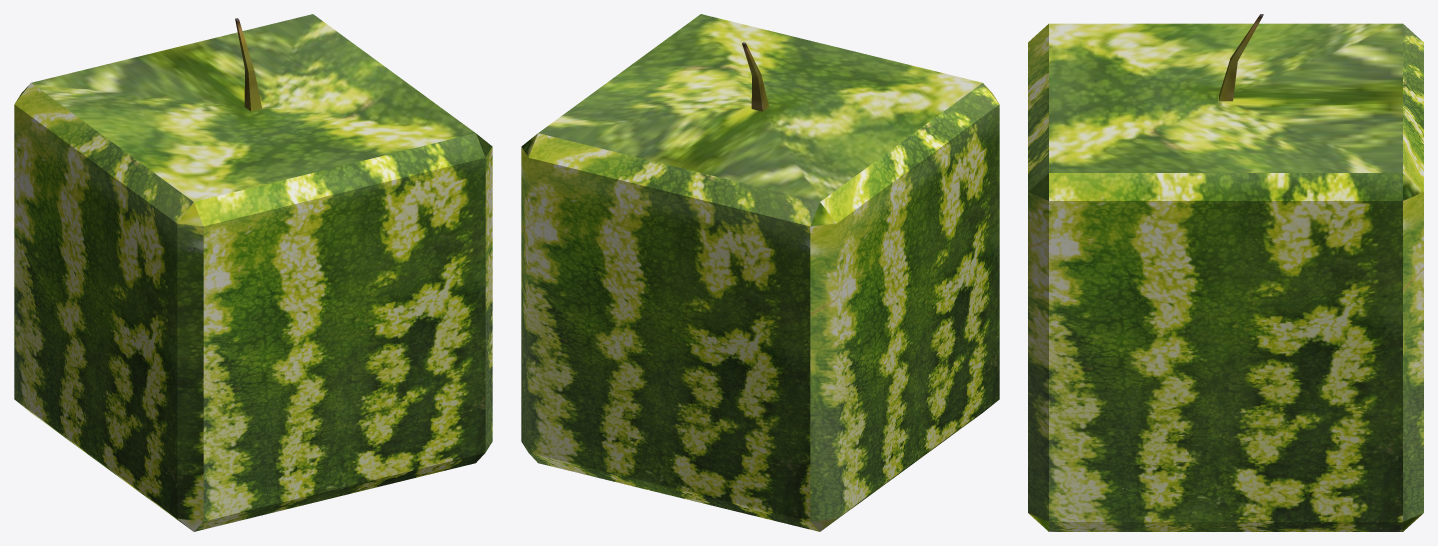
File: SandiaCuadrada.fbx
3 renders of one model, left to right at view 1: azimuth 30°, elevation 25°; view 2: azimuth 150°, elevation 25°; view 3: azimuth 270°, elevation 25°, orthographic. The views are drawn at different scales.
Parts seen in each view (by area): view 1: Sandia_Material; view 2: Sandia_Material; view 3: Sandia_Material.
Part boxes in pixels (left/top/right/bottom): Sandia_Material: left=14, top=14, right=492, bottom=531; Sandia_Material: left=521, top=14, right=999, bottom=531; Sandia_Material: left=1028, top=14, right=1423, bottom=531.
Size of the model in its own units: 200 by 247 by 200.
Materials: 1 (1 with a texture image).
